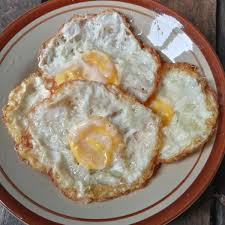Telur ceplok: (3, 73, 163, 204), (38, 9, 162, 91), (153, 63, 219, 166)
